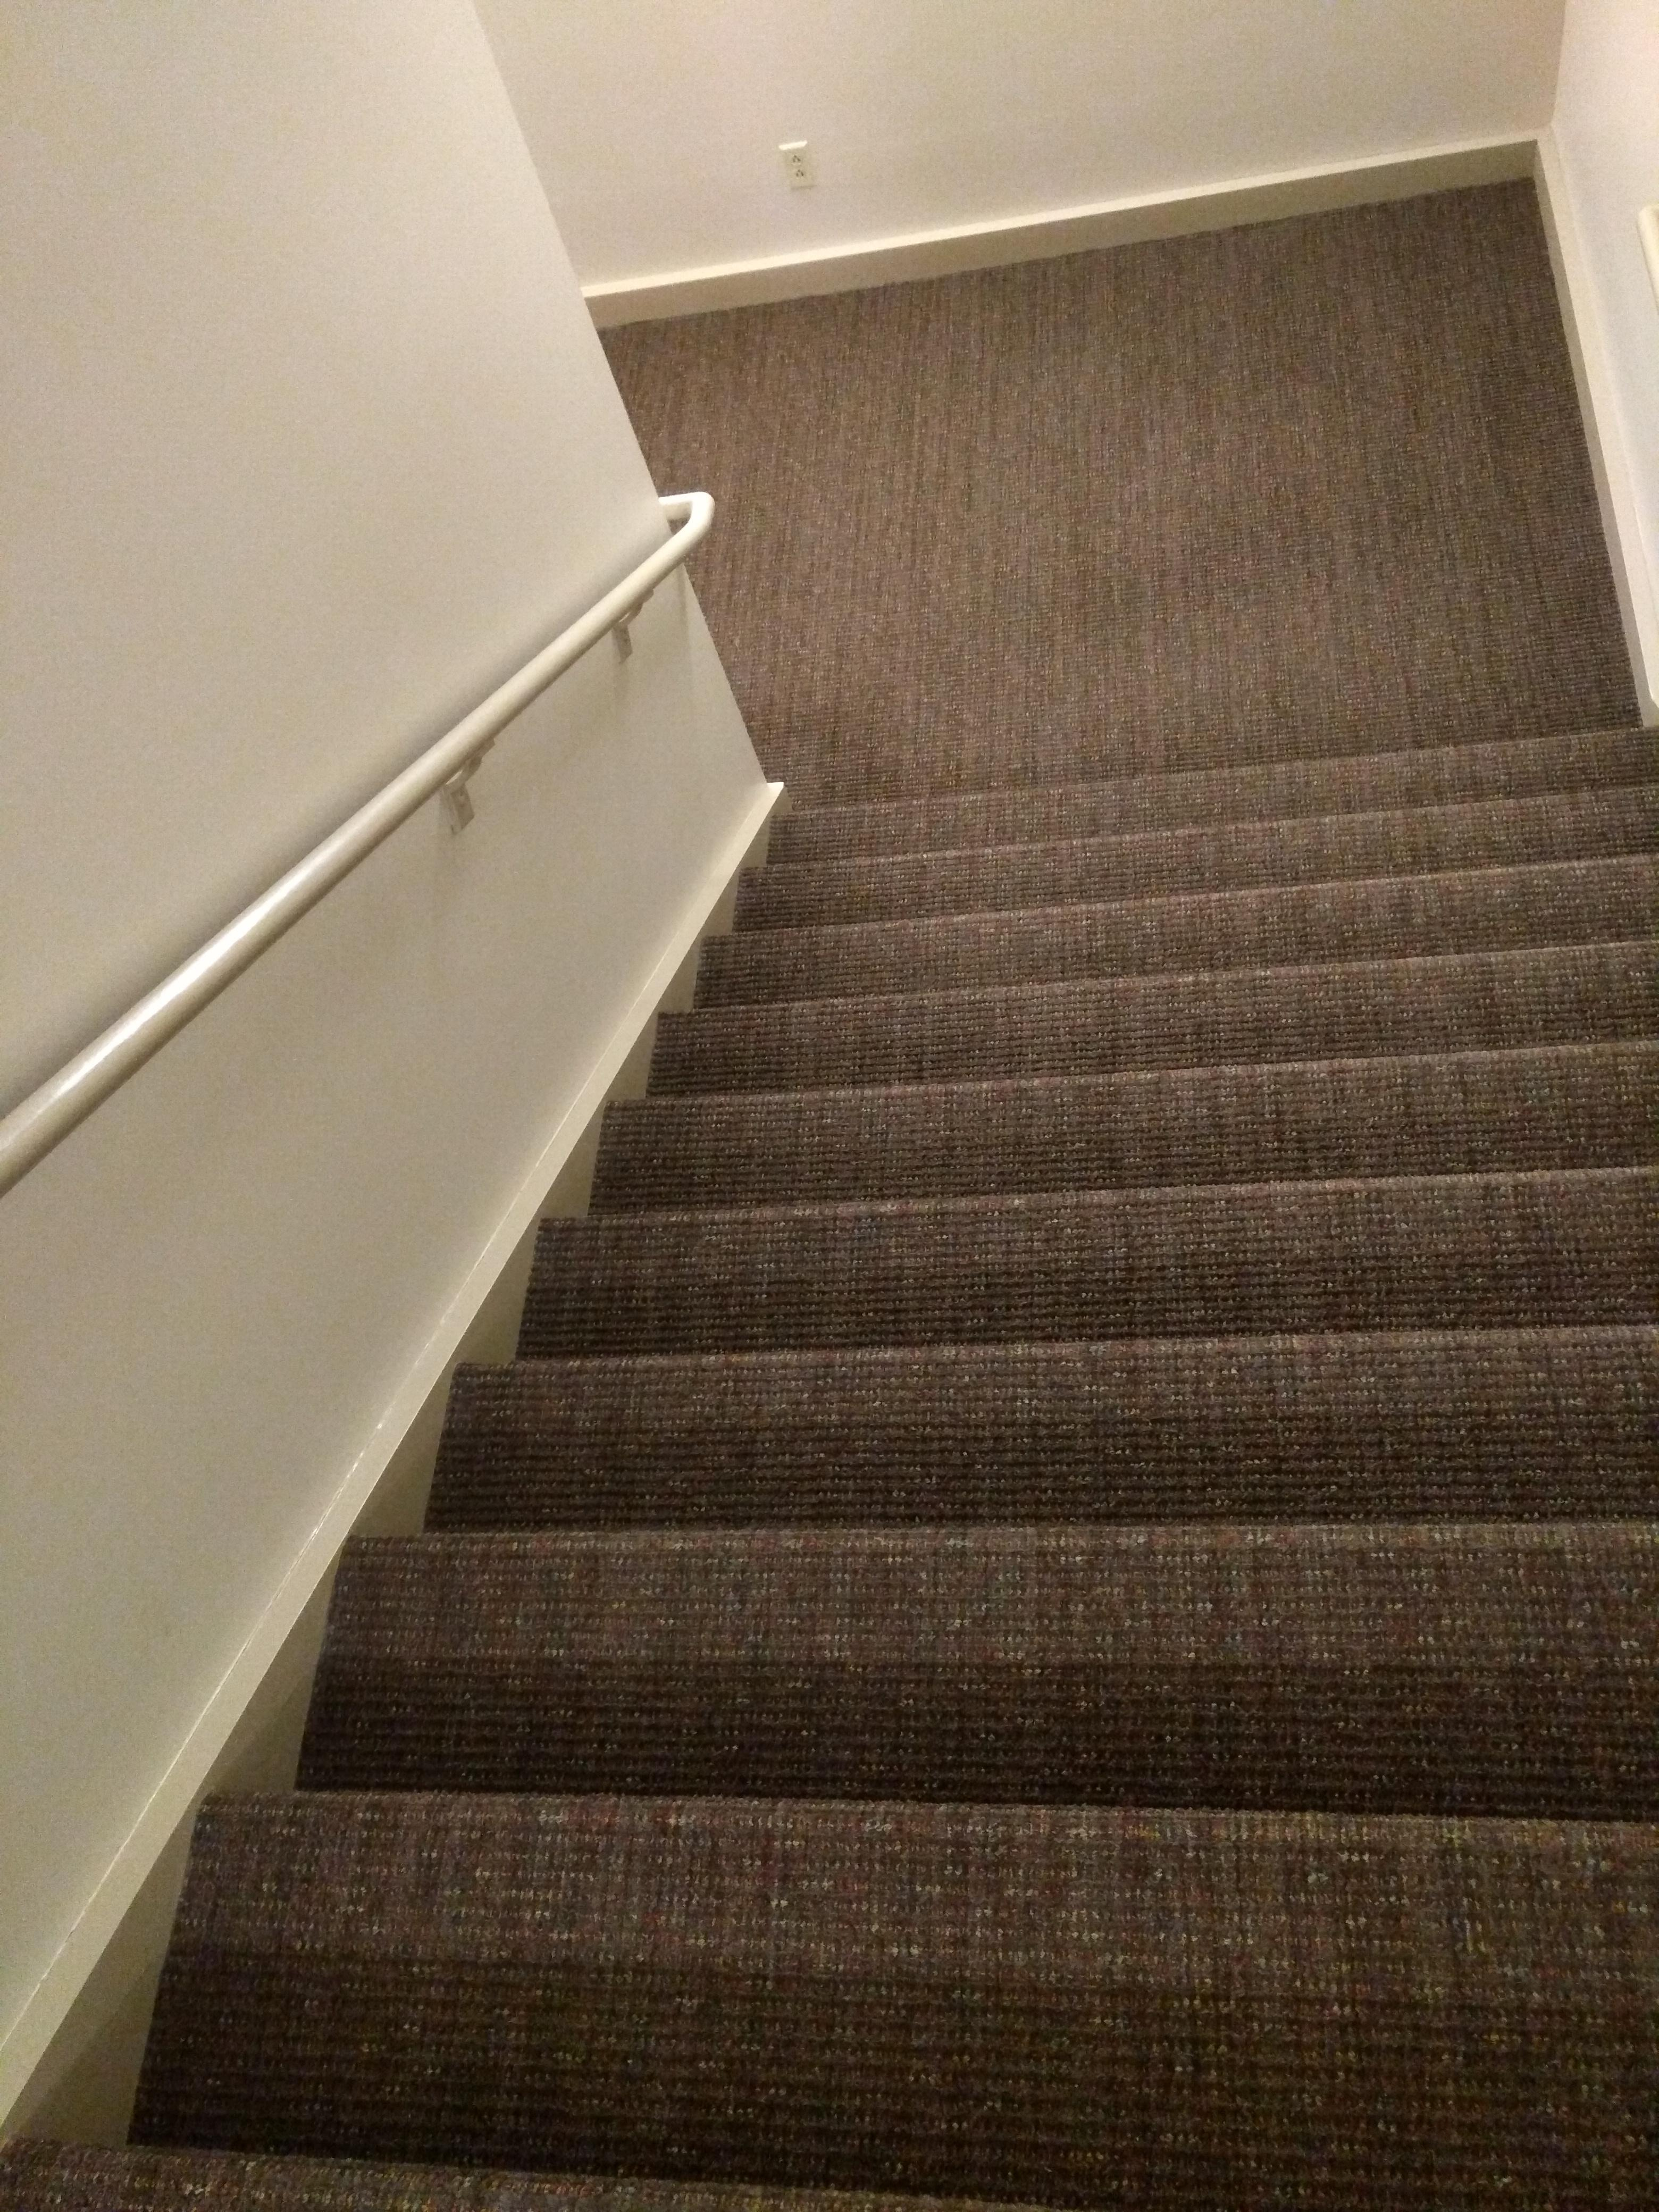stairs_down: (91, 730, 1654, 2212)
